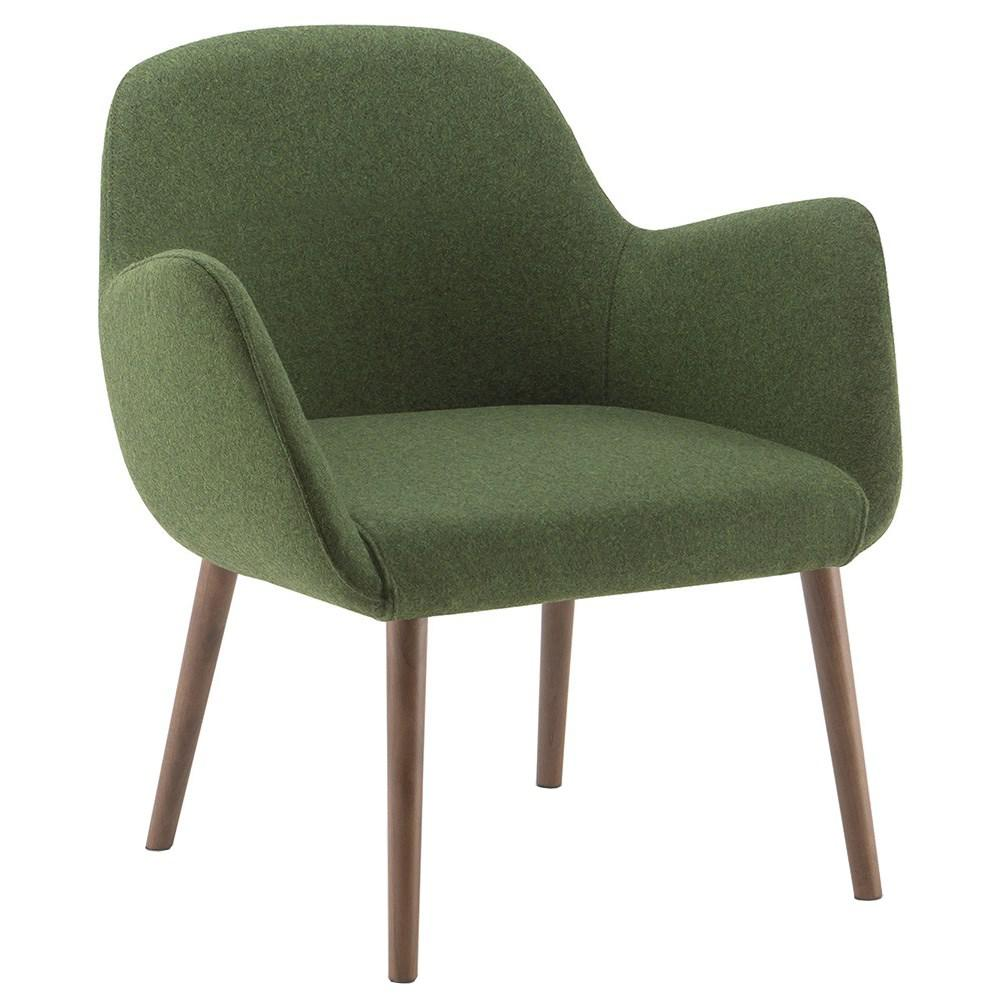chair: (71, 16, 928, 999)
